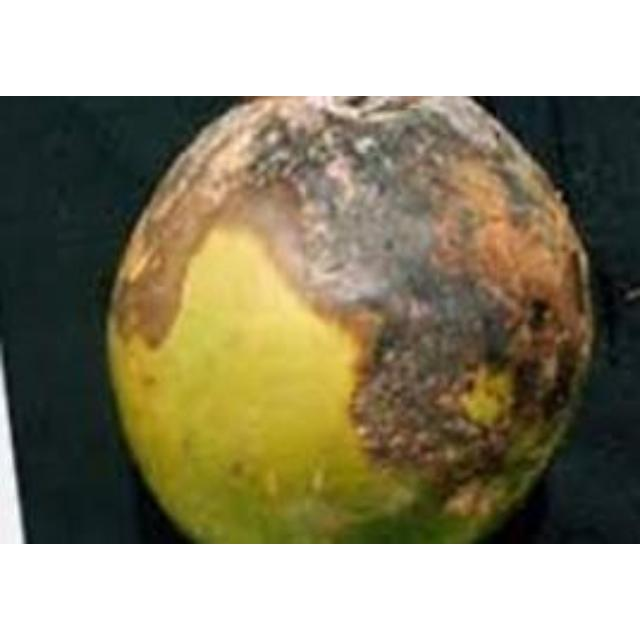damaged: (107, 96, 592, 543)
